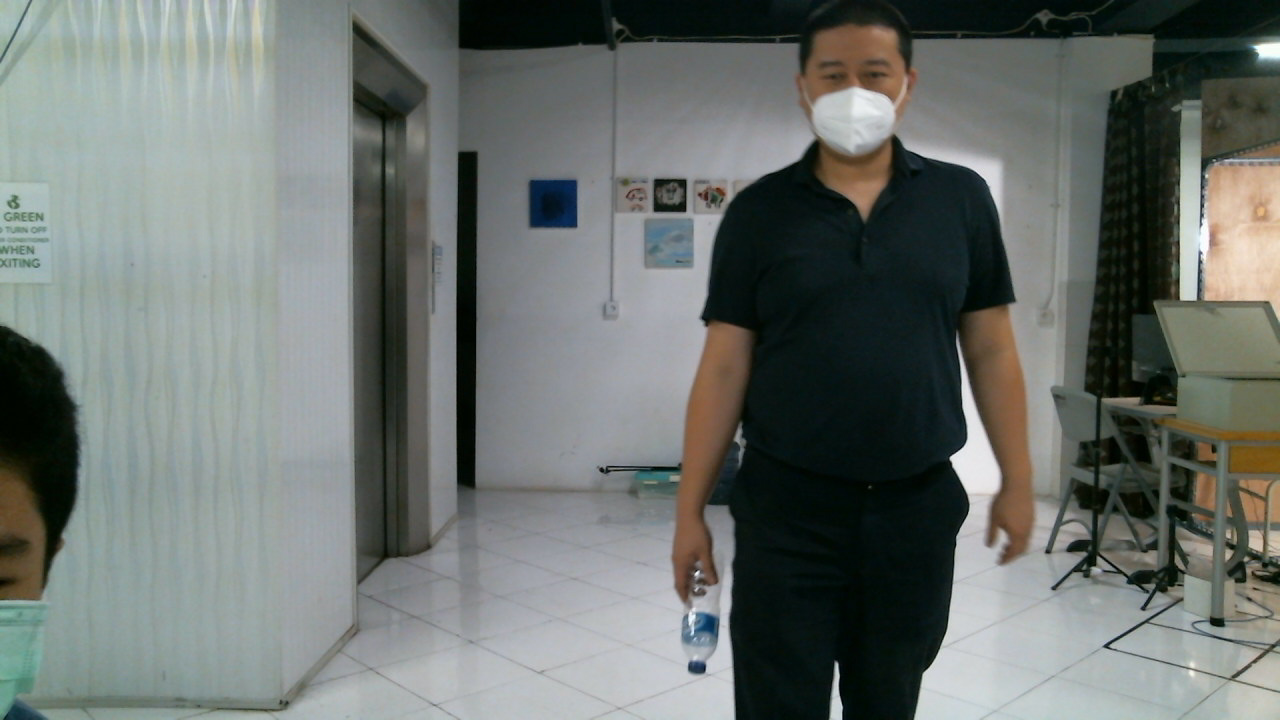Bottle: (677, 551, 727, 675)
